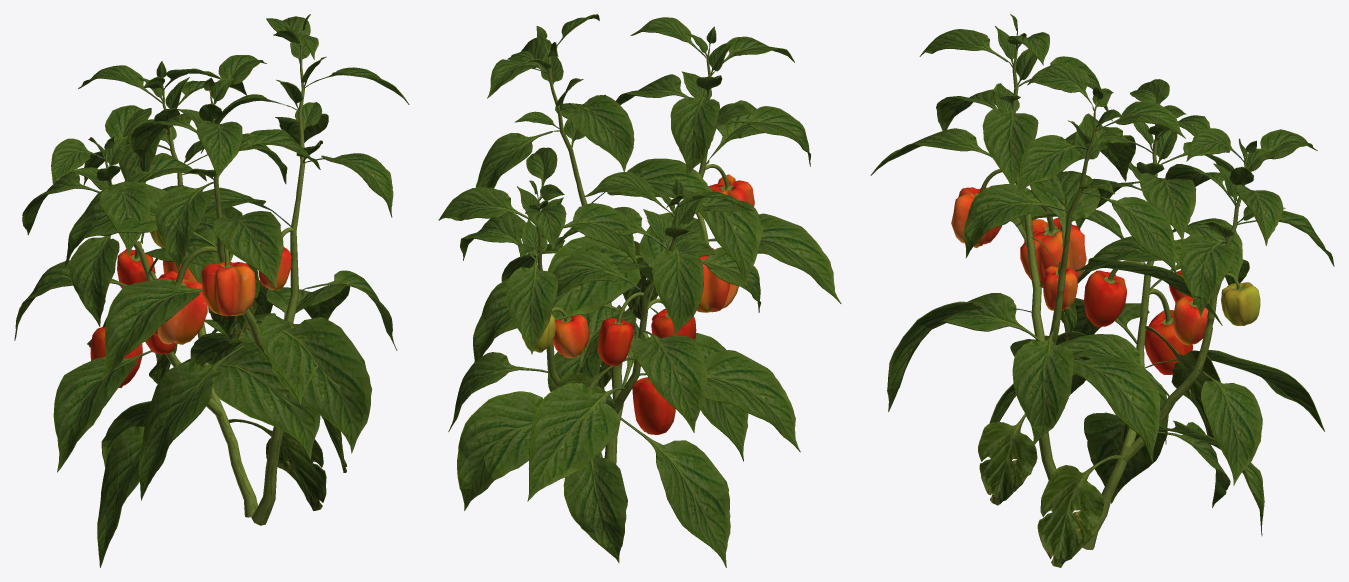
The picture shows the model from 3 angles, left to right: view 1: azimuth 30°, elevation 25°; view 2: azimuth 150°, elevation 25°; view 3: azimuth 270°, elevation 25°; orthographic projection. The views are drawn at different scales.
Parts seen in each view (by area): view 1: VG07_019; view 2: VG07_019; view 3: VG07_019.
Part boxes in pixels (x1,y1,x2,y2): VG07_019: (14, 14, 409, 567); VG07_019: (438, 14, 841, 567); VG07_019: (870, 14, 1334, 567).
Bounding box in the file's own units: 0.4887 × 0.5985 × 0.7448.
6 materials, 6 textured.
